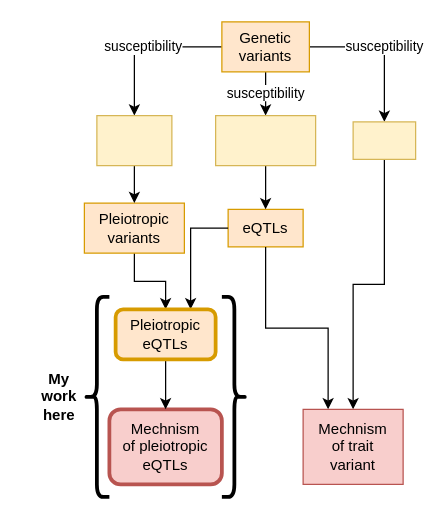
The diagram is 444 pixels wide and 520 high, and some of its shapes have lost their labels. The box of each missing label's shape, as (x1, y1, x2, y2) in pixels:
Gene expression: (214, 114, 316, 166)
Several traits: (96, 114, 172, 166)
Trait: (352, 121, 416, 159)
